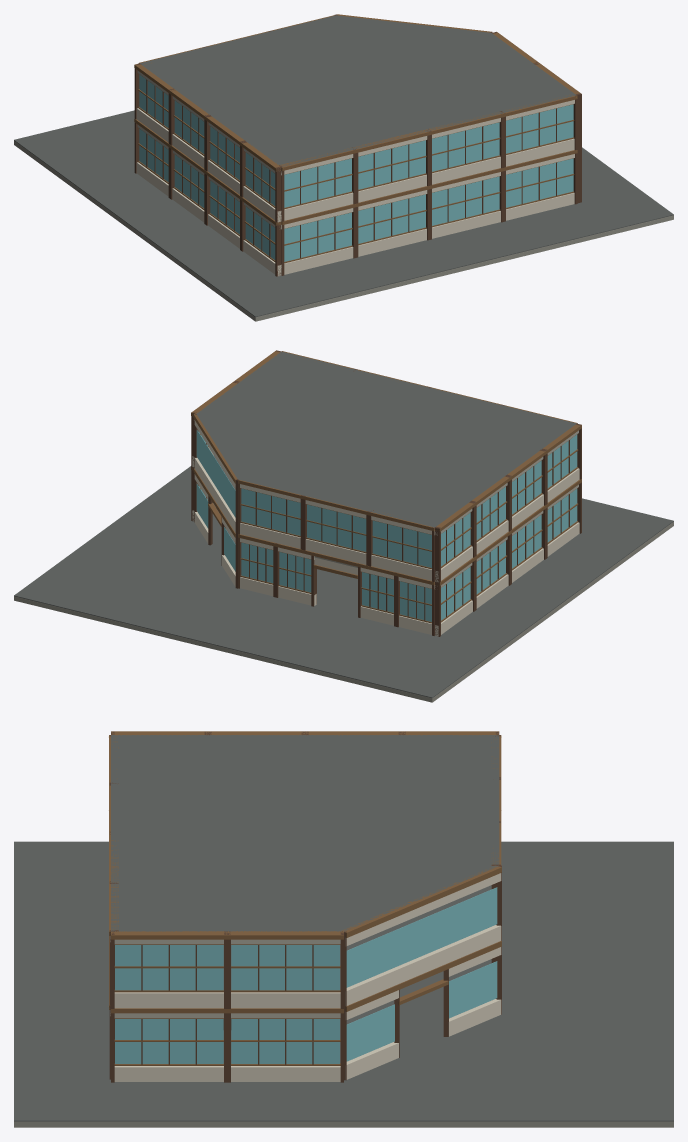
The picture shows the model from 3 angles, top to bottom: view 1: azimuth 30°, elevation 25°; view 2: azimuth 150°, elevation 25°; view 3: azimuth 270°, elevation 25°; orthographic projection. The views are drawn at different scales.
Parts seen in each view (by area): view 1: 分格窗洞与木石墙 (×5), 真实斜切街角楼板与贯通梯井, 石铺面与混凝土承板; view 2: 石铺面与混凝土承板, 真实斜切街角楼板与贯通梯井 (×2), 分格窗洞与木石墙 (×4), 中轴实开门墙, 沿真实斜角的门窗与连续过梁 (×2), 斜角门前真实三角街面; view 3: 石铺面与混凝土承板, 真实斜切街角楼板与贯通梯井 (×3), 分格窗洞与木石墙 (×4), 沿真实斜角的门窗与连续过梁 (×2), 斜角门前真实三角街面.
Part boxes in pixels (<box>): 分格窗洞与木石墙 (×5): <box>134,31,581,276</box>; 真实斜切街角楼板与贯通梯井: <box>140,15,576,166</box>; 石铺面与混凝土承板: <box>14,110,673,321</box>; 石铺面与混凝土承板: <box>14,466,673,702</box>; 真实斜切街角楼板与贯通梯井 (×2): <box>196,351,576,616</box>; 分格窗洞与木石墙 (×4): <box>191,350,581,636</box>; 中轴实开门墙: <box>238,534,434,635</box>; 沿真实斜角的门窗与连续过梁 (×2): <box>193,413,238,588</box>; 斜角门前真实三角街面: <box>140,523,234,586</box>; 石铺面与混凝土承板: <box>14,841,673,1127</box>; 真实斜切街角楼板与贯通梯井 (×3): <box>111,735,499,1063</box>; 分格窗洞与木石墙 (×4): <box>109,731,499,1082</box>; 沿真实斜角的门窗与连续过梁 (×2): <box>341,865,501,1080</box>; 斜角门前真实三角街面: <box>348,1016,499,1079</box>.
Bounding box in the file's own units: 34 × 8.8 × 34.
Materials: 11 (11 with a texture image).
